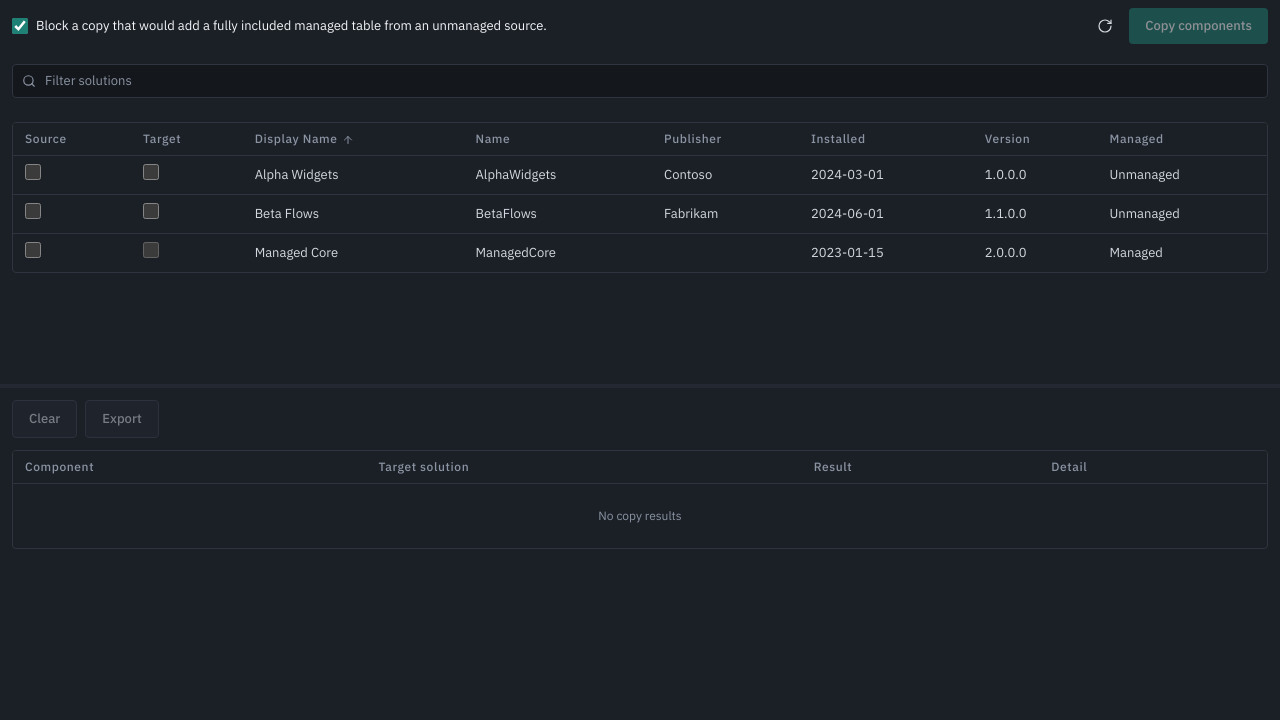
Solution Components Mover › copies a component type subset
Step 1. Click the 1st checkbox named "Source Alpha Widgets" → click(33, 172), box [25,164,41,180]
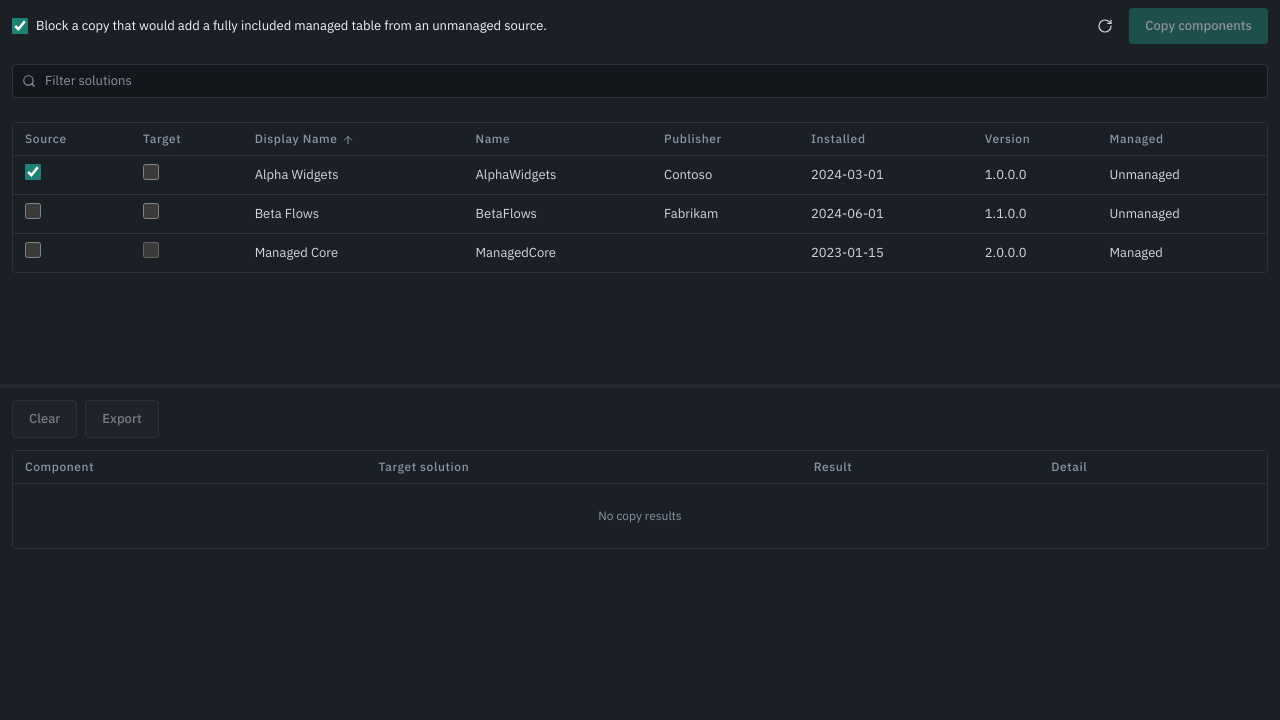
Step 2. Click the 4th checkbox named "Target Beta Flows" → click(151, 211), box [143,203,159,219]
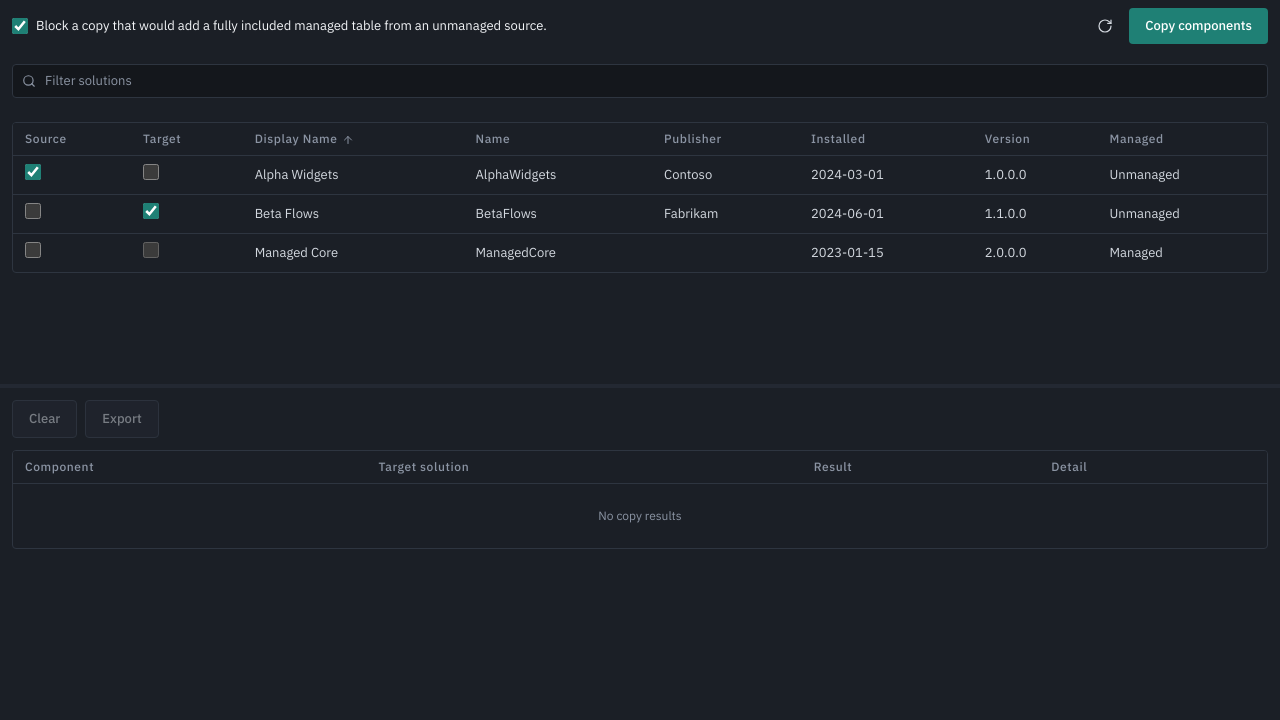
Step 3. Click the button "Copy components" → click(1199, 26), box [1129,8,1268,44]
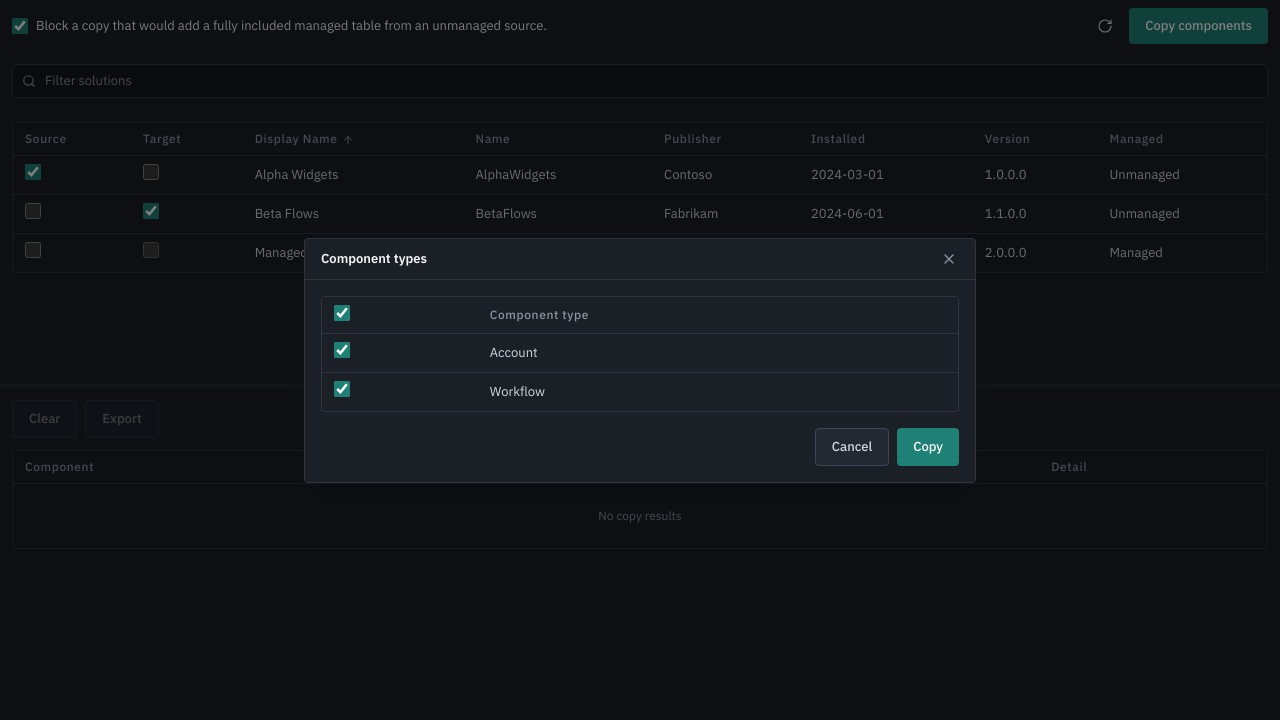
Result: the checkbox named "Account" next to "Account" is checked
Result: the 1st checkbox named "Select all component types" is checked at [334,304,350,320]
Result: the checkbox named "Workflow" next to "Workflow" is checked at [334,380,350,396]
Step 4. Click the checkbox named "Account" next to "Account" → click(342, 350), box [334,342,350,358]
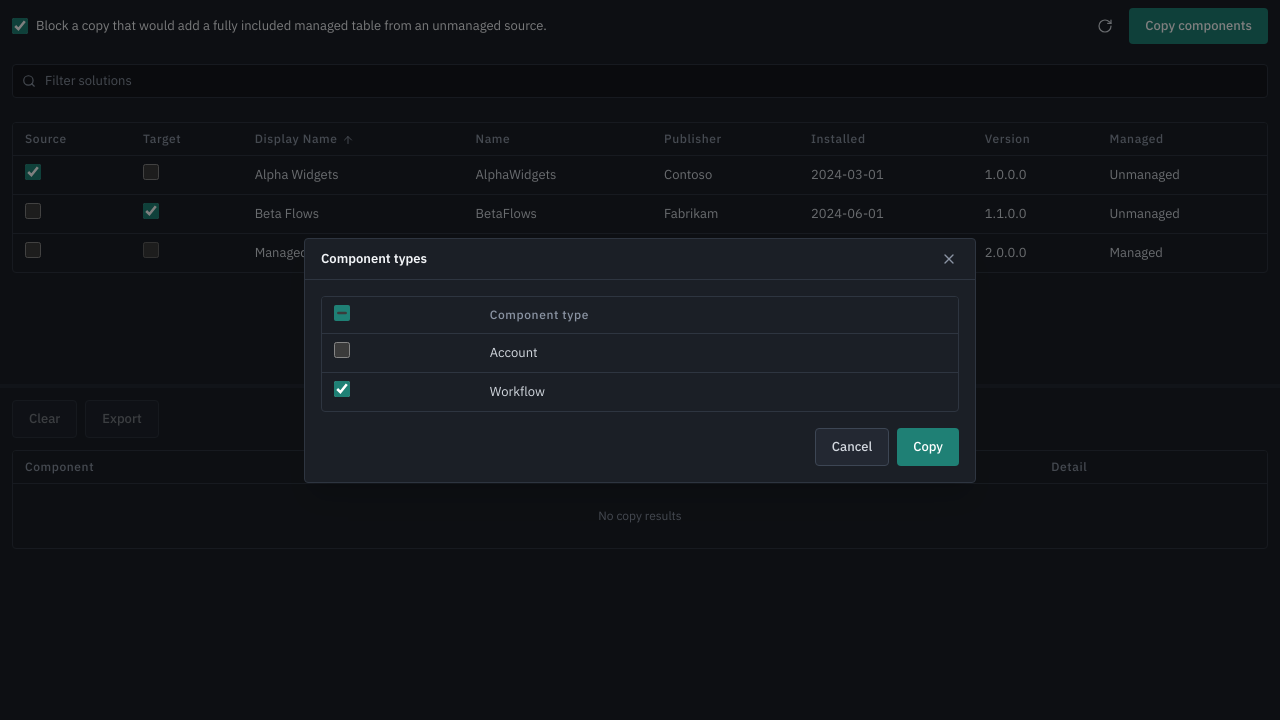
Step 5. Click the button "Copy" → click(928, 446), box [897,428,959,466]
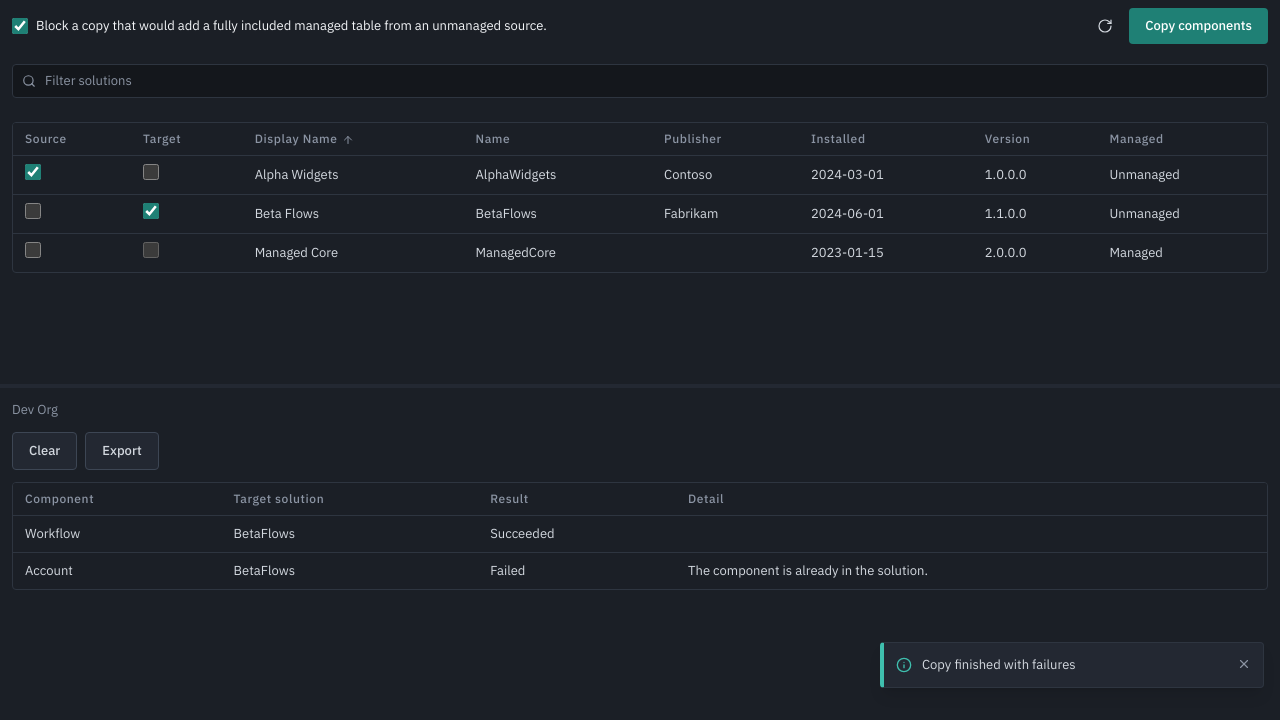
Result: the text "Succeeded" is shown at [478,516,676,552]
Result: the text "Failed" is shown at [478,552,676,589]
Result: the text "The component is already in the solution." is shown at [676,552,1267,589]
